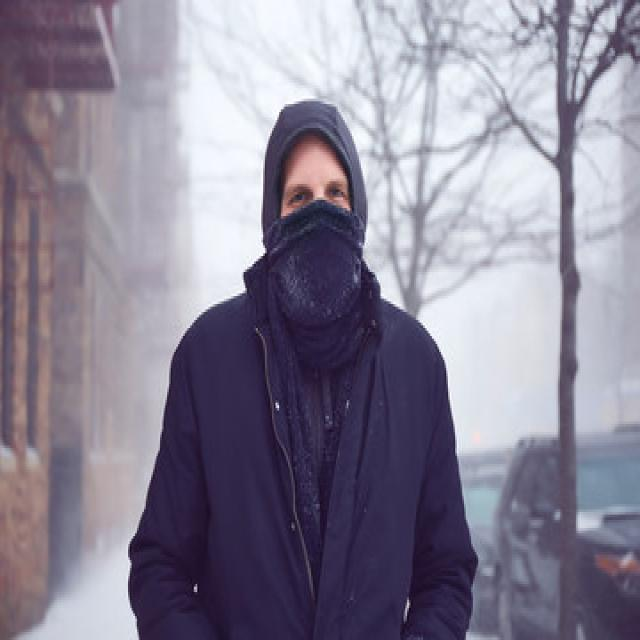person-with-mask: (130, 94, 483, 640)
